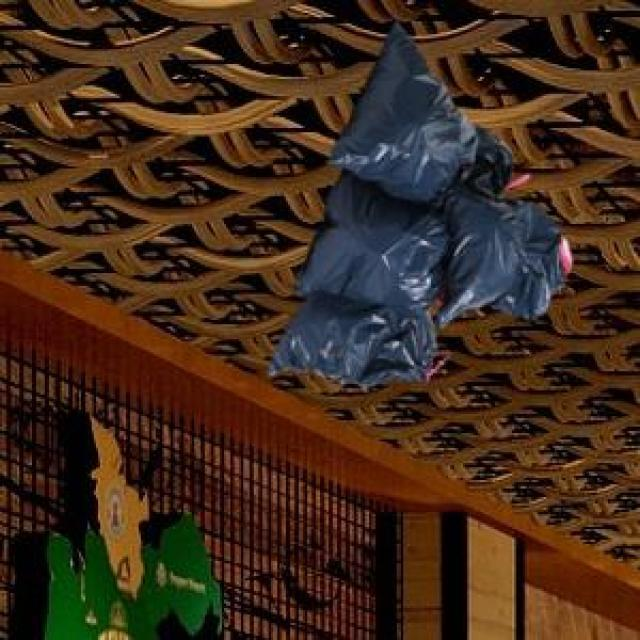miscellaneous trash: (265, 17, 568, 384)
